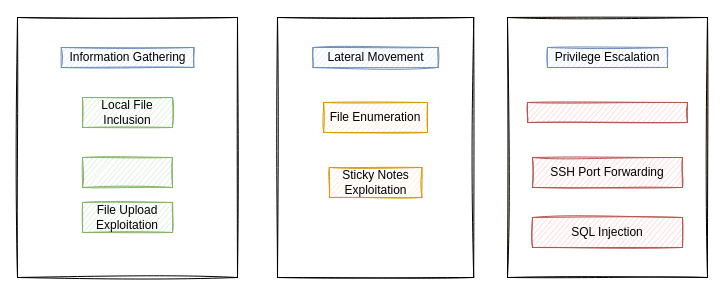
The diagram is 725 pixels wide and 295 high, and some of its shapes have lost their labels. The shapes that lost their labels are listed below. From the top down, each one's centre as x and y in pixels, then its label:
the point at 607,112: Krypter_Linux RE
the point at 127,172: JWT Token Exploitation
